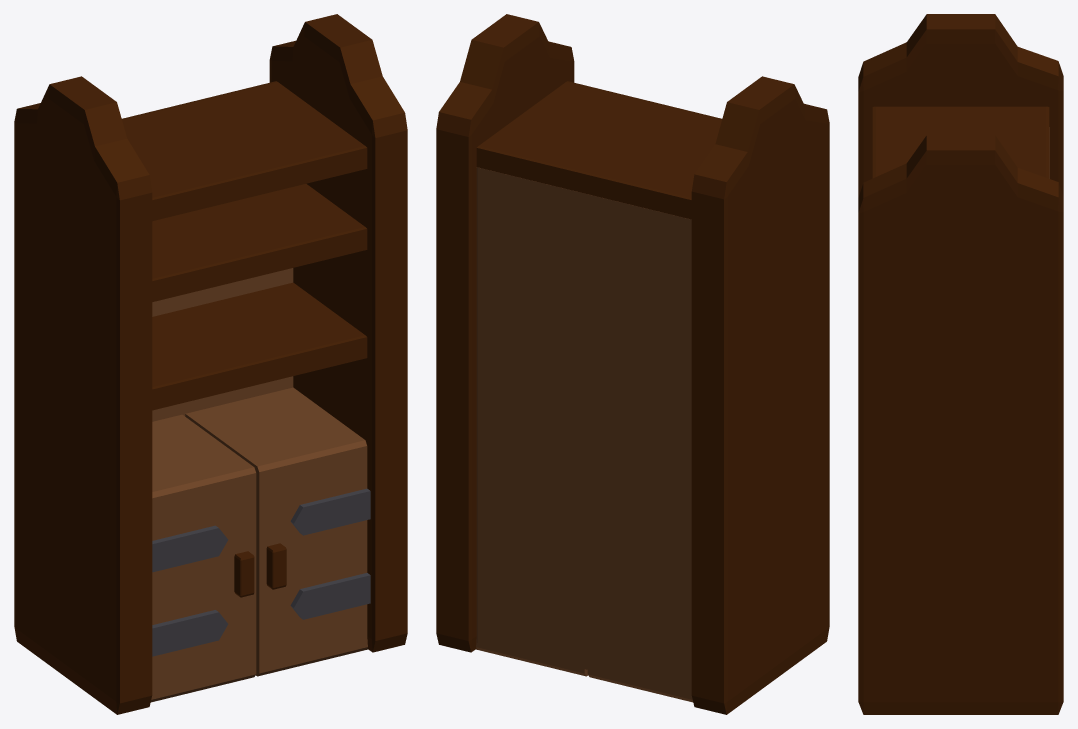
File: TavernShelf.fbx
The picture shows the model from 3 angles, left to right: view 1: azimuth 30°, elevation 25°; view 2: azimuth 150°, elevation 25°; view 3: azimuth 270°, elevation 25°; orthographic projection. The views are drawn at different scales.
Parts seen in each view (by area): view 1: Cube.001, Cube.003, Cube.002, Cube.007, Cube.006, Cube.005, Cube.008, Cube.004, Cube.009; view 2: Cube.004, Cube.001, Cube.002, Cube.007, Cube.003; view 3: Cube.002, Cube.001, Cube.007.
Part boxes in pixels (x1,y1,x2,y2): Cube.001: (14,76,152,714); Cube.003: (150,387,367,702); Cube.002: (269,14,407,652); Cube.007: (122,81,367,221); Cube.006: (152,282,367,410); Cube.005: (152,184,367,301); Cube.008: (152,488,370,656); Cube.004: (152,268,293,421); Cube.009: (234,543,286,597); Cube.004: (476,167,691,694); Cube.001: (691,76,829,714); Cube.002: (436,14,574,652); Cube.007: (476,81,722,219); Cube.003: (476,639,693,702); Cube.002: (858,135,1063,714); Cube.001: (858,14,1063,197); Cube.007: (872,106,1049,178).
Bounding box in the file's own units: 188 × 362 × 119.
